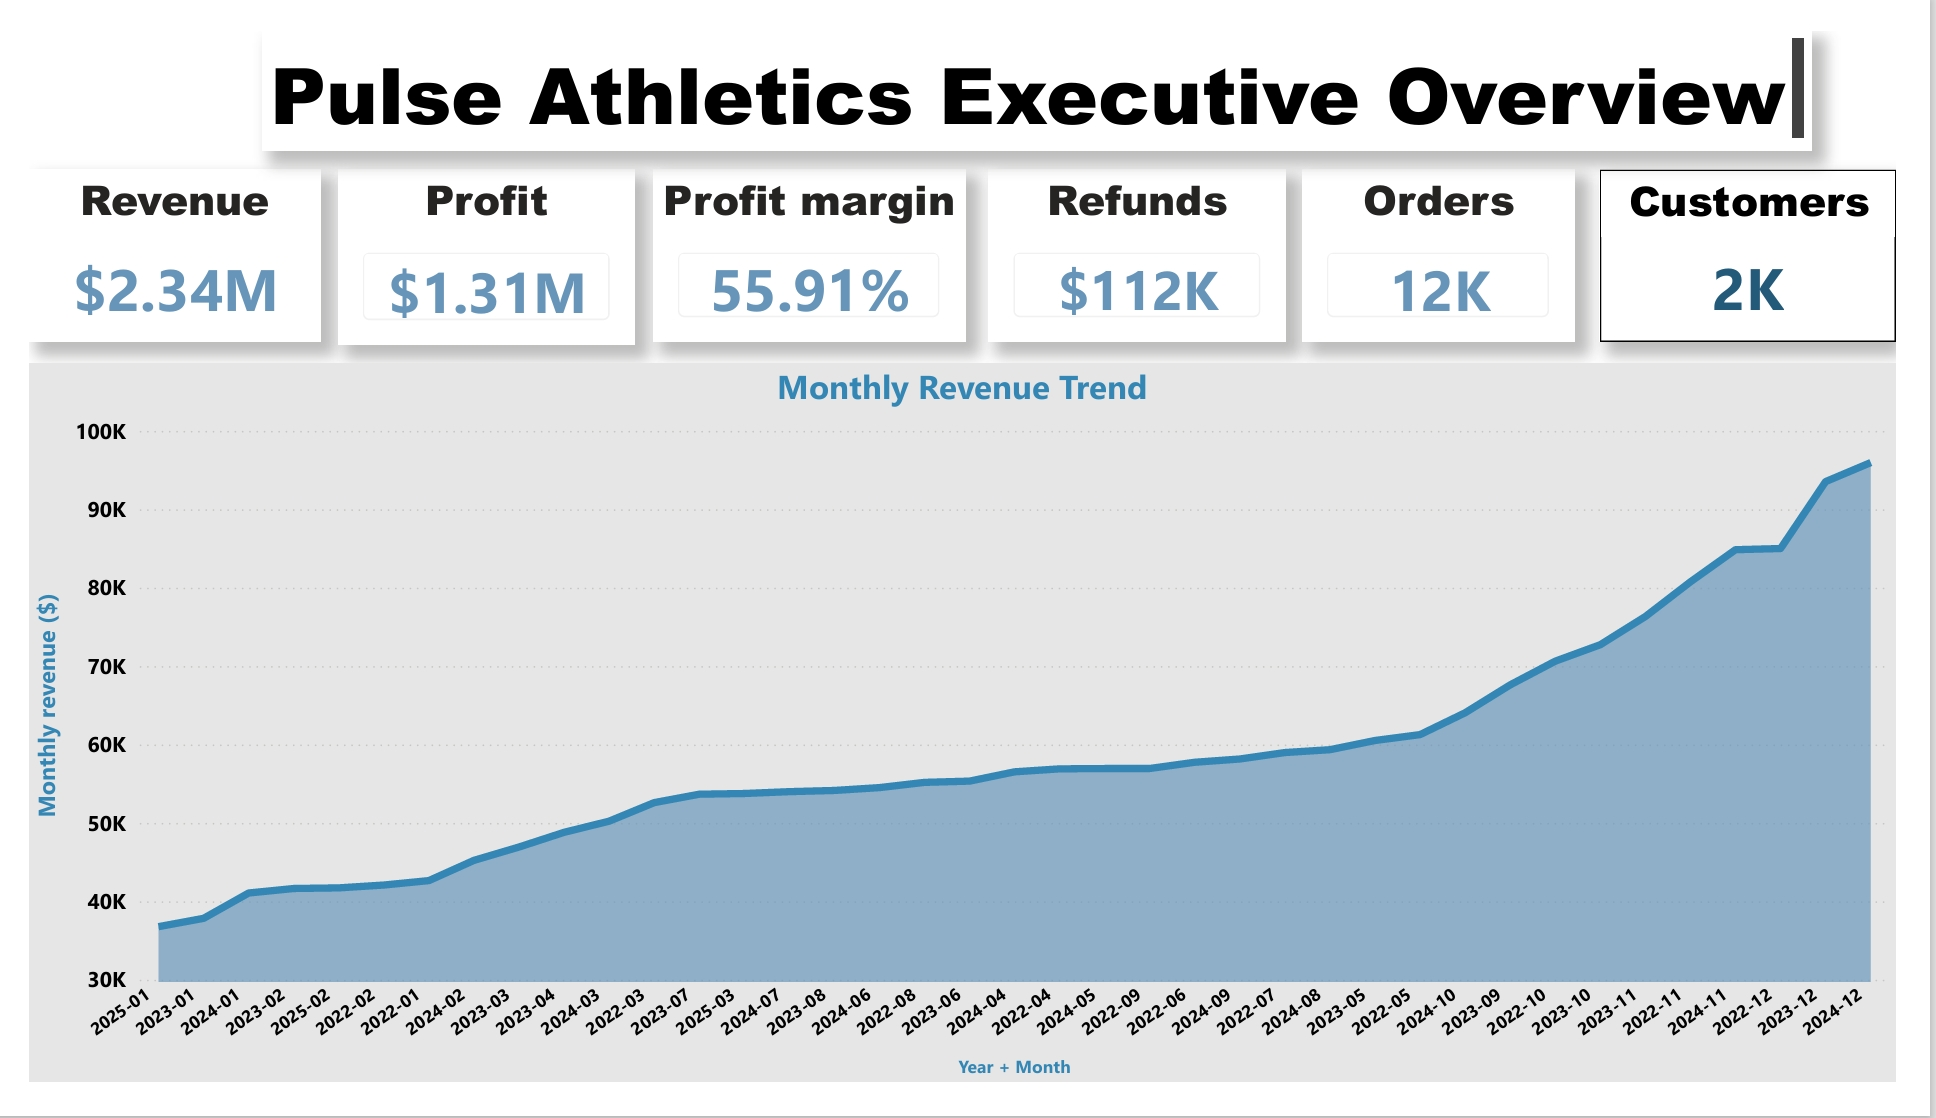

This screenshot's page, from the dashboard's own definition file:
{"tool":"powerbi","page":{"name":"Executive Overview","canvas":[1280,720],"ordinal":0},"visuals":[{"type":"cardVisual","title":"Revenue","fields":{"Data":["KPI_Measures.Total Revenue"]},"box":[0,95,200,118.3],"z":0},{"type":"cardVisual","title":"Profit","fields":{"Data":["KPI_Measures.Total Profit"]},"box":[211.7,95,203.3,120],"z":1000},{"type":"cardVisual","title":"Profit margin","fields":{"Data":["KPI_Measures.Profit Margin %"]},"box":[428.3,95,213.3,118.3],"z":2000},{"type":"cardVisual","title":"Refunds","fields":{"Data":["KPI_Measures.Total Refunds"]},"box":[658.3,95,203.3,118.3],"z":3000},{"type":"cardVisual","title":"Orders","fields":{"Data":["KPI_Measures.Total Orders"]},"box":[873.3,95,186.7,118.3],"z":4000},{"type":"cardVisual","title":"Customers","fields":{"Data":["KPI_Measures.Total Customers"]},"box":[1076.7,95,203.3,118.3],"z":5000},{"type":"lineChart","title":"Monthly Revenue Trend","fields":{"Y":["Sum(orders.total_revenue)"],"Category":["orders.Order Month"]},"box":[0,228.3,1280,493.3],"z":6000},{"type":"textbox","box":[160,0,1062,82],"z":7000}]}

Visuals, with their boxes in screenshot pixels (x1, y1, x2, y2), scaled from the page's 1280x720 canvas onto the 1936x1118 screenshot:
"Revenue" cardVisual: <region>0, 148, 302, 331</region>
"Profit" cardVisual: <region>320, 148, 628, 334</region>
"Profit margin" cardVisual: <region>648, 148, 970, 331</region>
"Refunds" cardVisual: <region>996, 148, 1303, 331</region>
"Orders" cardVisual: <region>1321, 148, 1603, 331</region>
"Customers" cardVisual: <region>1629, 148, 1935, 331</region>
"Monthly Revenue Trend" lineChart: <region>0, 354, 1935, 1117</region>
textbox: <region>242, 0, 1848, 127</region>
